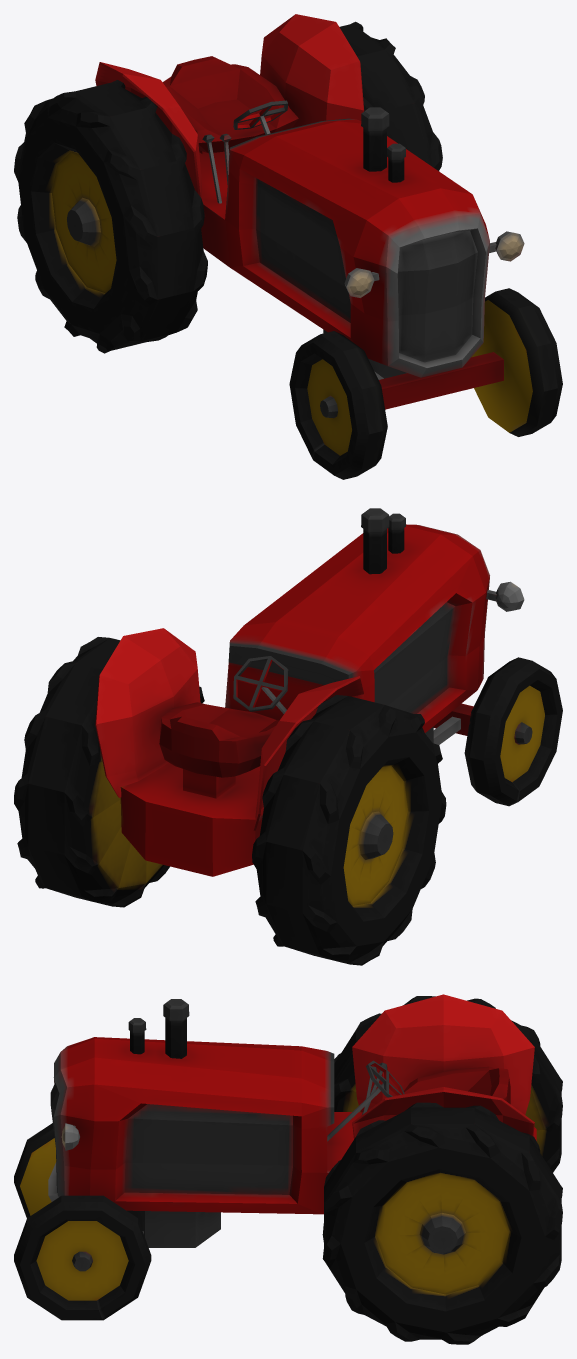
Rendered from transportOffRoad-tractor.glb.
The picture shows the model from 3 angles, top to bottom: view 1: azimuth 30°, elevation 25°; view 2: azimuth 150°, elevation 25°; view 3: azimuth 270°, elevation 25°; orthographic projection. The views are drawn at different scales.
Visible parts, largest first — view 1: node-0; view 2: node-0; view 3: node-0.
Boxes of the visible parts, box(x1,y1,x2,y2) form: node-0: box(14, 14, 562, 479); node-0: box(14, 508, 562, 965); node-0: box(14, 994, 562, 1344).
Bounding box in the file's own units: 9.35 × 8.62 × 15.49.
Materials: 1 (1 with a texture image).
